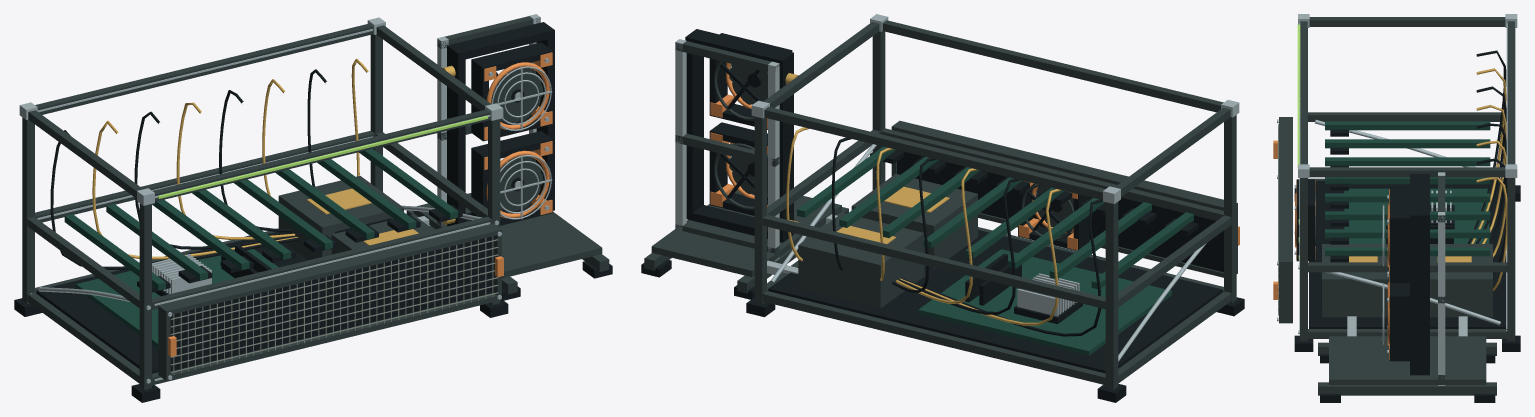
Rendered from rig-runtime-8-carbon-air.glb.
3 renders of one model, left to right at view 1: azimuth 30°, elevation 25°; view 2: azimuth 150°, elevation 25°; view 3: azimuth 270°, elevation 25°, orthographic. The views are drawn at different scales.
Visible parts, largest first — view 1: Anodized graphite (×5), Rubber and ABS (×4), filter-carbon, Circuit board, Brushed aluminium (×4), Filter fibres, Industrial orange (×2), rig-runtime-8-carbon-air, Contacts, slot-cable-1, slot-cable-2, slot-cable-3 (+2 smaller); view 2: Anodized graphite (×4), Rubber and ABS (×5), Circuit board, Brushed aluminium (×2), filter-carbon, Industrial orange (×2), Contacts, slot-cable-1, slot-cable-2, slot-cable-3, slot-cable-4, slot-cable-5; view 3: Anodized graphite (×3), Rubber and ABS (×6), Circuit board, Brushed aluminium (×2), rig-runtime-8-carbon-air, slot-cable-1, slot-cable-2, slot-cable-3, Contacts, slot-cable-8, slot-cable-4, slot-cable-5 (+2 smaller).
Part boxes in pixels (x1,y1,x2,y2): Anodized graphite (×5): (22,16,609,389); Rubber and ABS (×4): (14,22,554,402); filter-carbon: (170,236,493,371); Circuit board: (64,149,457,348); Brushed aluminium (×4): (19,14,552,383); Filter fibres: (170,236,498,374); Industrial orange (×2): (484,52,552,218); rig-runtime-8-carbon-air: (158,115,488,198); Contacts: (307,188,418,245); slot-cable-1: (50,130,299,269); slot-cable-2: (92,120,297,259); slot-cable-3: (134,111,296,249); Anodized graphite (×4): (644,20,1237,389); Rubber and ABS (×5): (685,29,1244,402); Circuit board: (797,146,1193,355); Brushed aluminium (×2): (675,14,1239,361); filter-carbon: (897,150,1223,272); Industrial orange (×2): (710,132,1077,250); Contacts: (836,186,949,244); slot-cable-1: (901,199,1102,336); slot-cable-2: (900,189,1061,325); slot-cable-3: (898,178,1019,314); slot-cable-4: (896,168,977,303); slot-cable-5: (892,158,935,293); Anodized graphite (×3): (1279,17,1515,395); Rubber and ABS (×6): (1294,129,1520,402); Circuit board: (1325,121,1490,256); Brushed aluminium (×2): (1298,14,1517,385); rig-runtime-8-carbon-air: (1297,24,1300,168); slot-cable-1: (1467,50,1506,243); slot-cable-2: (1471,68,1506,243); slot-cable-3: (1475,86,1506,243); Contacts: (1349,256,1471,262); slot-cable-8: (1476,177,1507,290); slot-cable-4: (1476,105,1506,243); slot-cable-5: (1476,123,1506,243).
Bounding box in the file's own units: 8.02 × 3.32 × 4.01.
